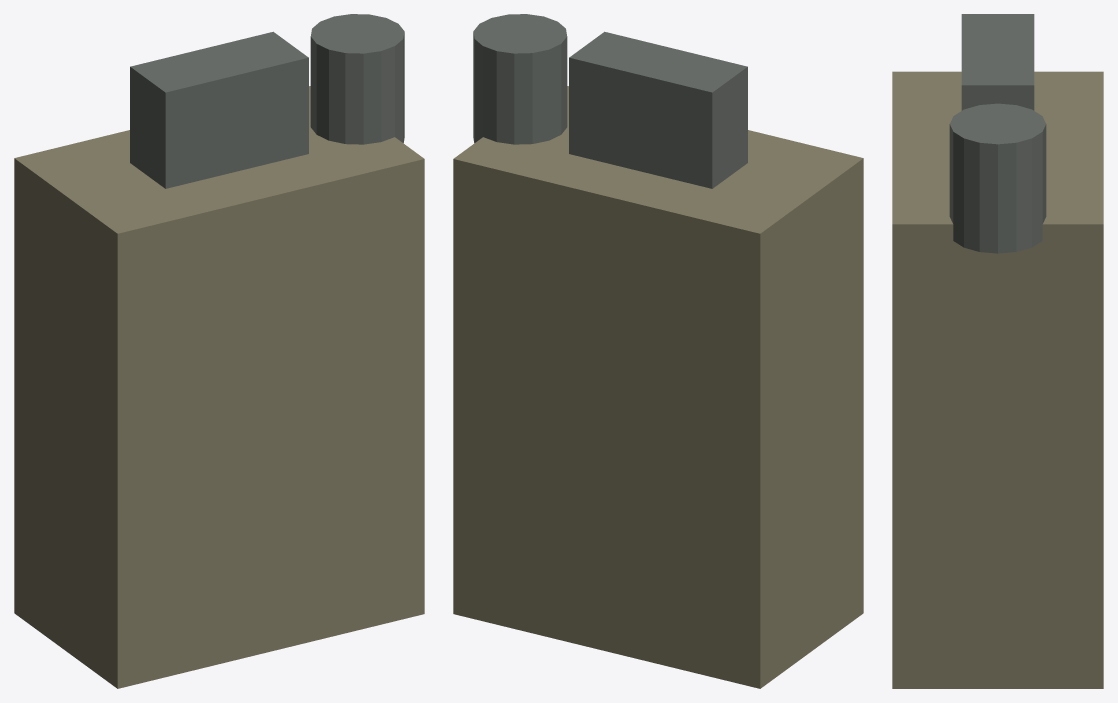
Rendered from loot_fuel_can.glb.
3 renders of one model, left to right at view 1: azimuth 30°, elevation 25°; view 2: azimuth 150°, elevation 25°; view 3: azimuth 270°, elevation 25°, orthographic. The views are drawn at different scales.
Parts seen in each view (by area): view 1: can_0, handle_1, cap_2; view 2: can_0, handle_1, cap_2; view 3: can_0, cap_2, handle_1.
Part boxes in pixels (x1,y1,x2,y2): can_0: (14, 86, 424, 688); handle_1: (130, 31, 308, 188); cap_2: (310, 14, 404, 144); can_0: (453, 86, 863, 688); handle_1: (569, 31, 747, 188); cap_2: (473, 14, 567, 144); can_0: (892, 71, 1103, 688); cap_2: (949, 103, 1046, 253); handle_1: (961, 14, 1034, 110).
Bounding box in the file's own units: 0.65 × 1.03 × 0.35.
